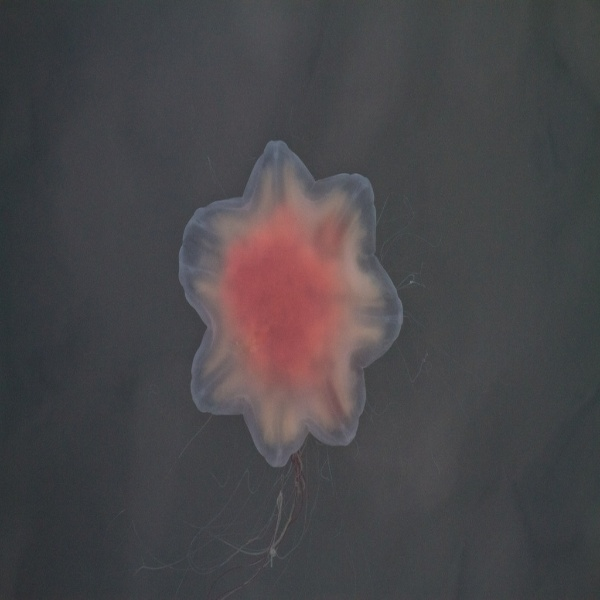Jellyfish: (176, 136, 469, 599)
